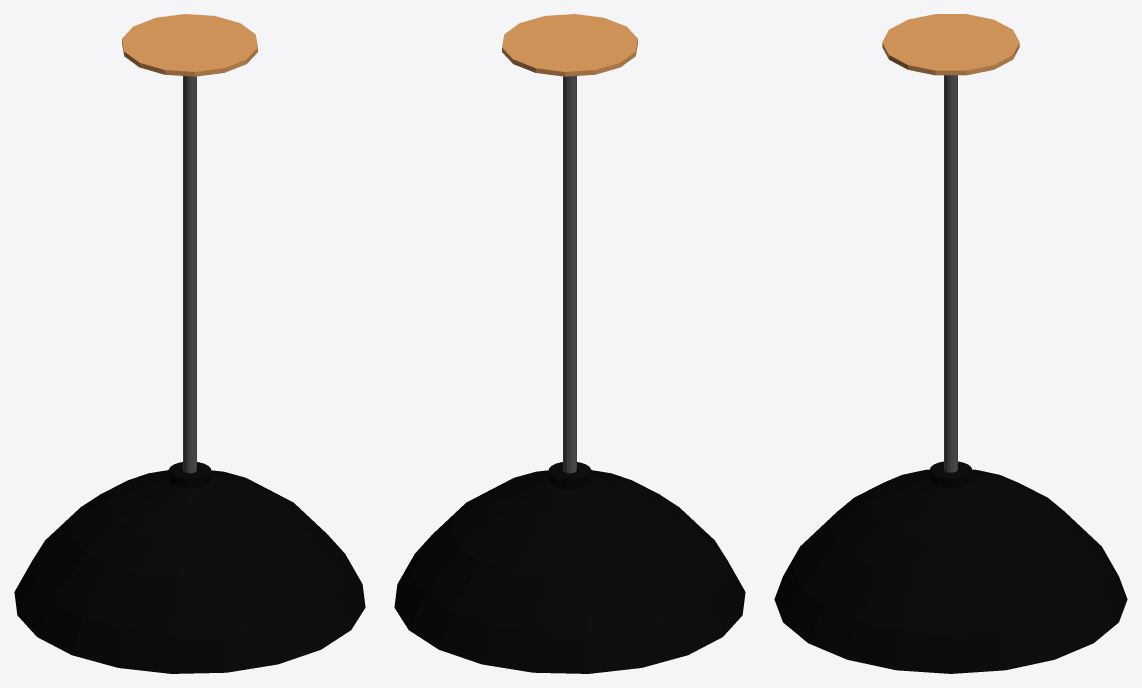
File: lampada.glb
3 renders of one model, left to right at view 1: azimuth 30°, elevation 25°; view 2: azimuth 150°, elevation 25°; view 3: azimuth 270°, elevation 25°, orthographic.
Visible parts, largest first — view 1: Cilindro.002; view 2: Cilindro.002; view 3: Cilindro.002.
Boxes of the visible parts, bbox=[...] form: Cilindro.002: bbox=[14, 14, 365, 673]; Cilindro.002: bbox=[394, 14, 745, 673]; Cilindro.002: bbox=[774, 14, 1127, 673].
Bounding box in the file's own units: 3.18 × 5.54 × 3.18.
